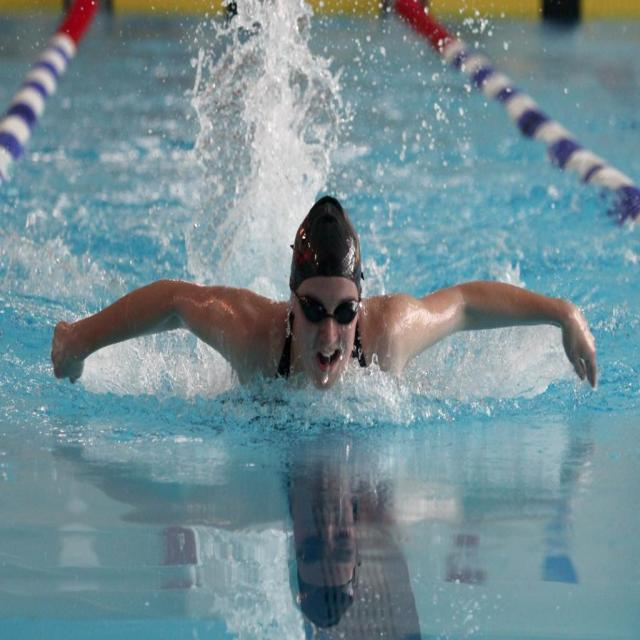Face: (299, 265, 367, 385)
